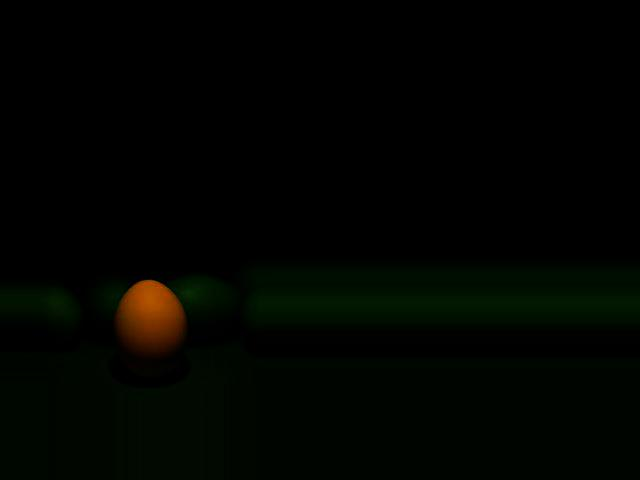egg: (113, 280, 188, 379)
